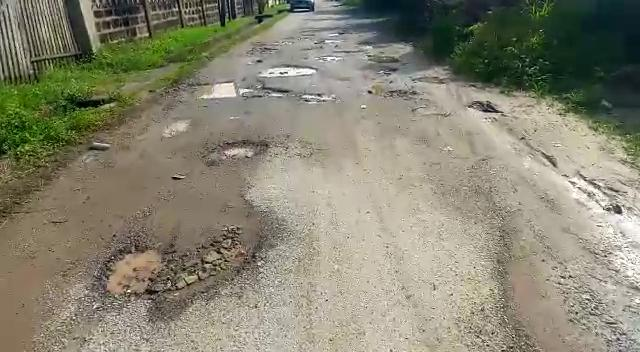pothole: (88, 227, 279, 306), (197, 136, 297, 163), (190, 79, 282, 99), (259, 64, 318, 78), (299, 92, 339, 104)
